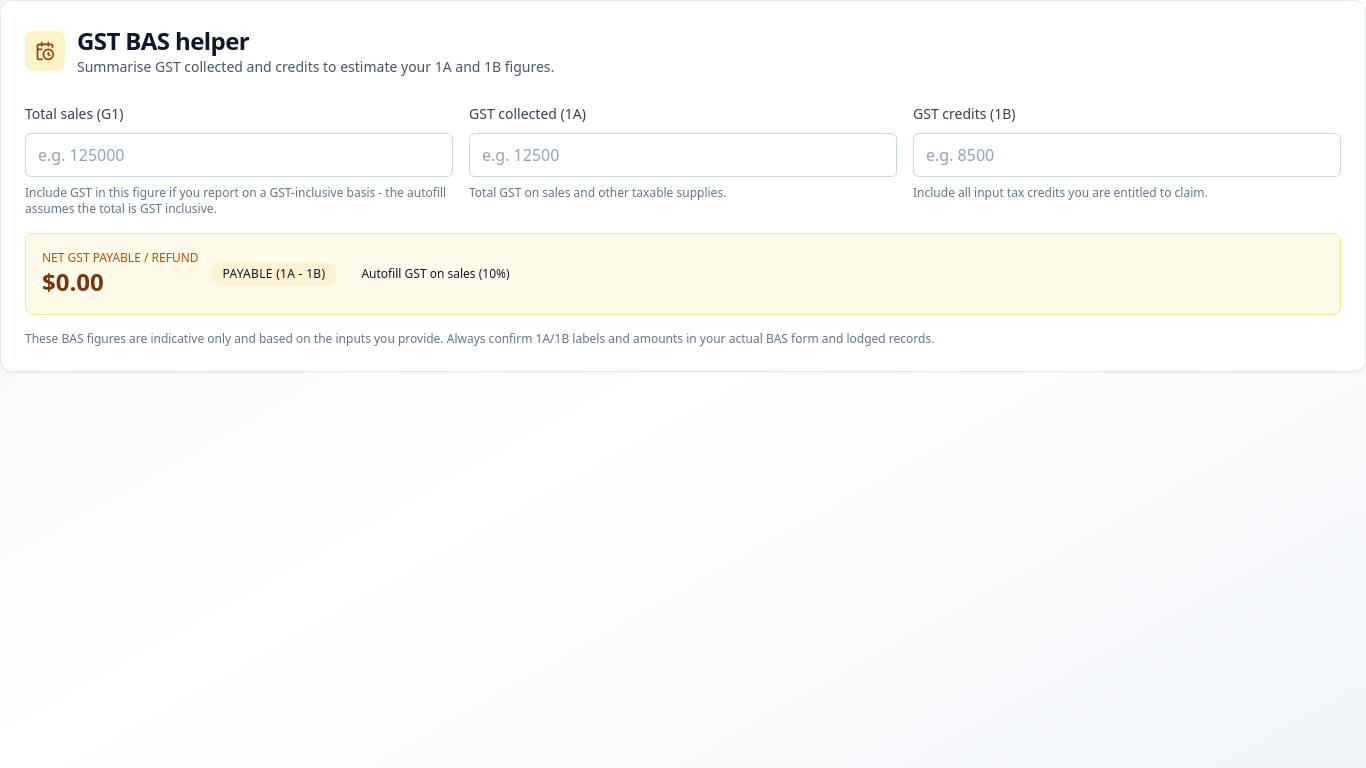
Scenario: GstBasHelper › computes net GST as collected minus credits
The width and height of the screenshot is (1366, 768).
Type "12500" into the field labelled "GST collected (1A)" at (683, 155), box x1=469 y1=133 x2=897 y2=177
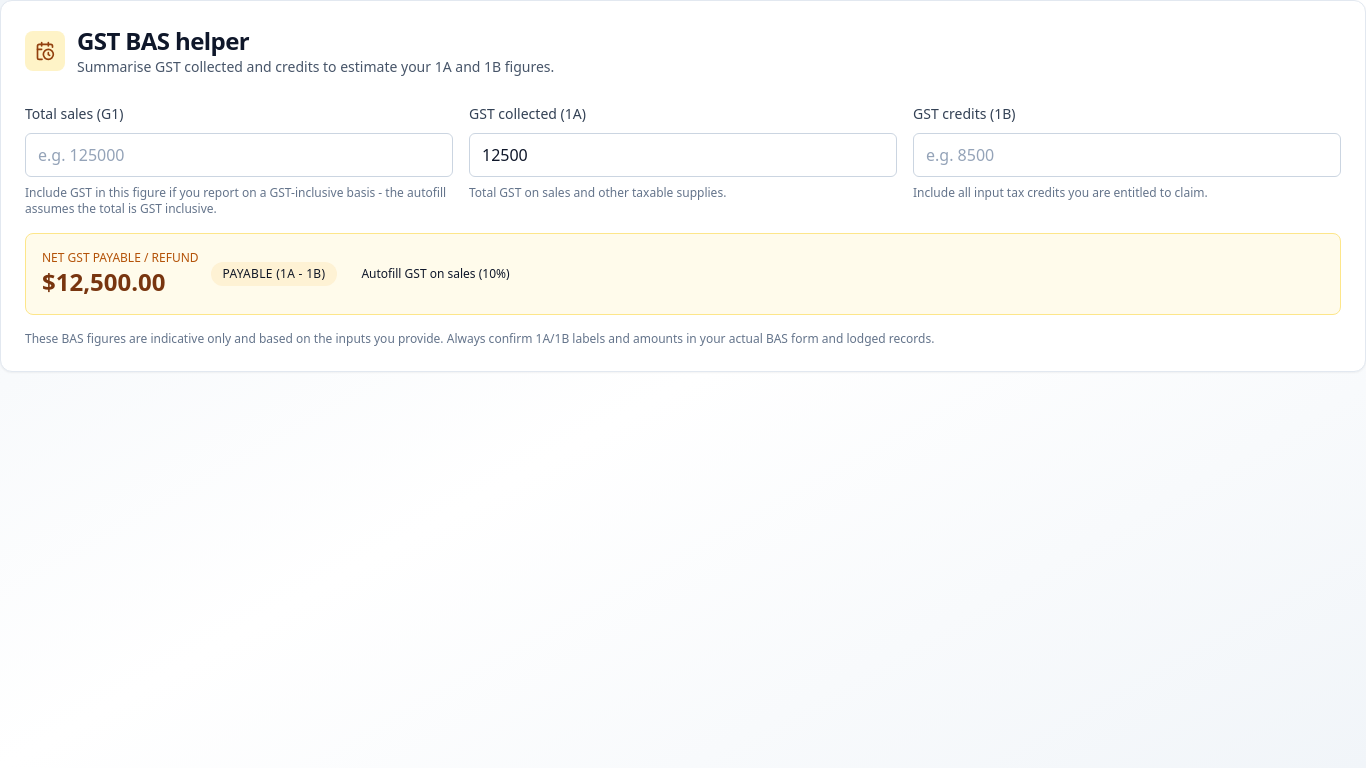
Type "8500" into the field labelled "GST credits (1B)" at (1127, 155), box x1=913 y1=133 x2=1341 y2=177
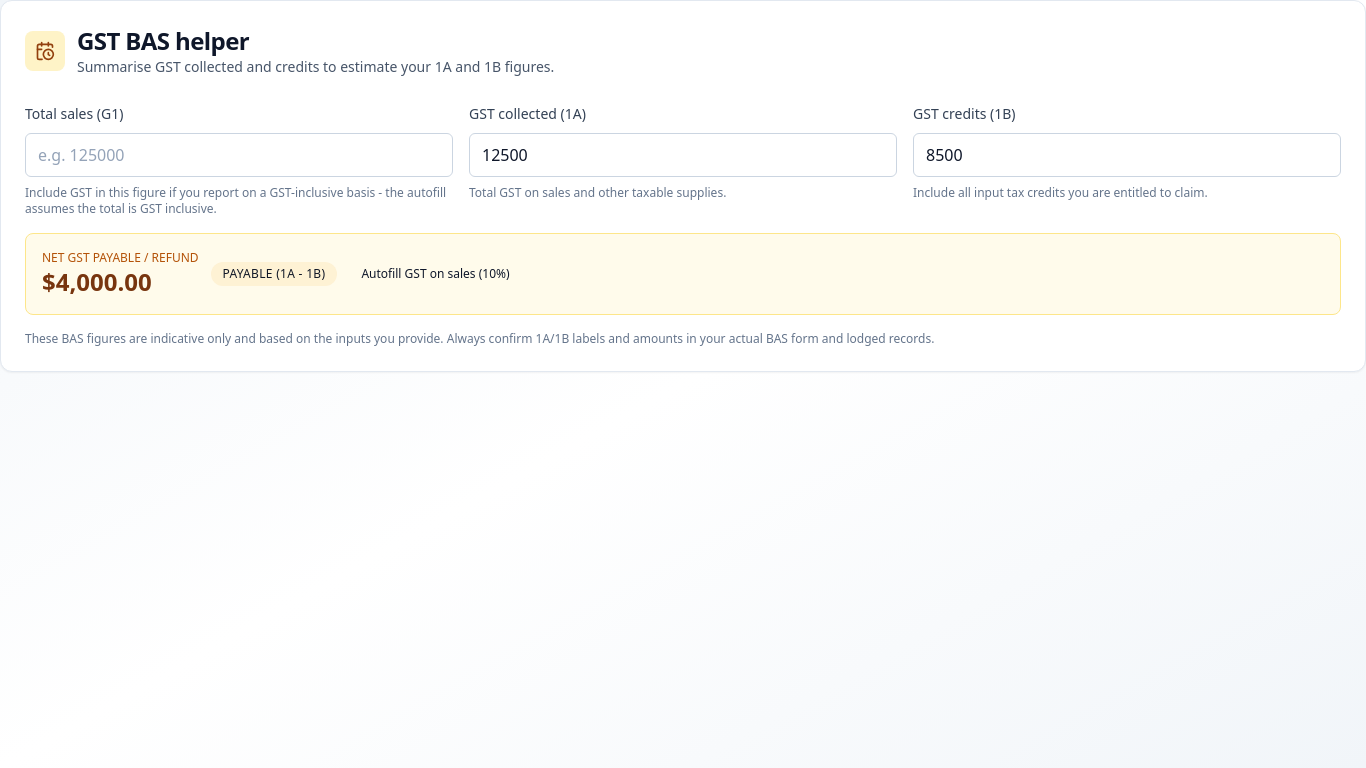
Check: the text "Payable (1A - 1B)" is shown, box x1=210 y1=262 x2=337 y2=286
Check: the text "$4,000.00" is shown, box x1=42 y1=265 x2=152 y2=298
